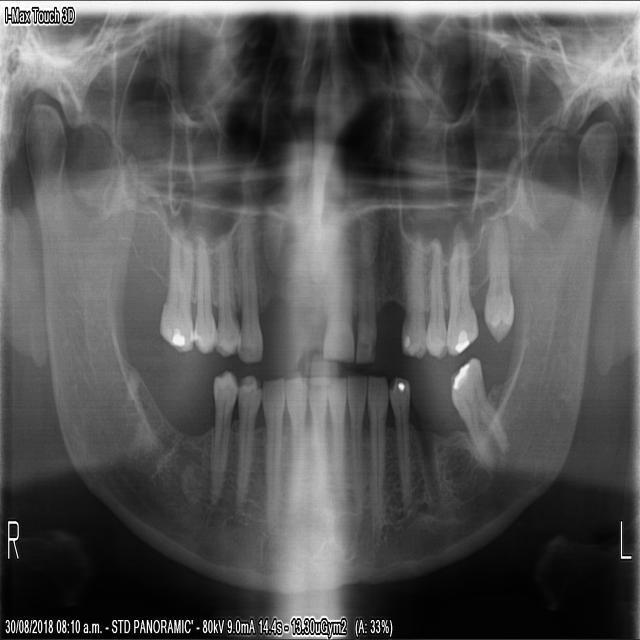LCD: (367, 376, 389, 516)
LID: (344, 373, 368, 501), (324, 372, 347, 495)
LIU: (353, 233, 377, 367)
LMD: (449, 349, 511, 469)
LMU: (320, 243, 354, 362), (446, 236, 480, 355), (482, 229, 513, 344)
LPMD: (387, 374, 411, 513)
LPMU: (396, 234, 427, 360), (422, 231, 448, 366)
RCD: (259, 374, 284, 524)
RID: (283, 367, 307, 505), (305, 373, 328, 494)
RMU: (157, 226, 193, 354), (191, 232, 218, 354)
RPMD: (234, 369, 259, 522), (207, 368, 236, 498)
RPMU: (233, 226, 263, 364), (212, 233, 239, 356)
